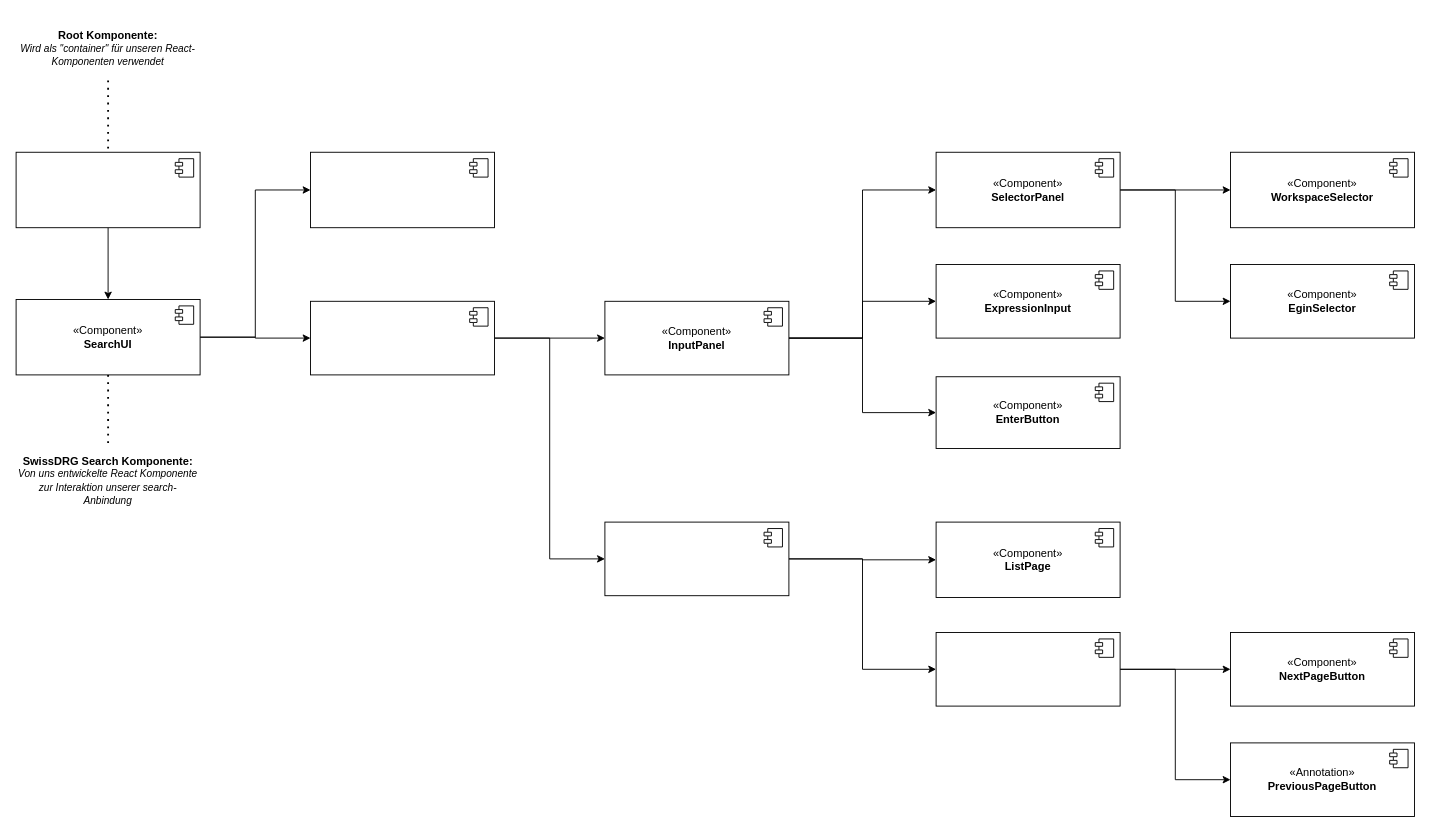
The diagram is 1431 pixels wide and 833 high, and some of its shapes have lost their labels. Each missing label, with the centre of its shape:
«Component» ContentPanel: [402,337]
«Component» PageButtonPanel: [1027,669]
«Component» ResultPanel: [696,558]
«Component» TitleBar: [402,189]
«RootComponent» App: [107,189]
